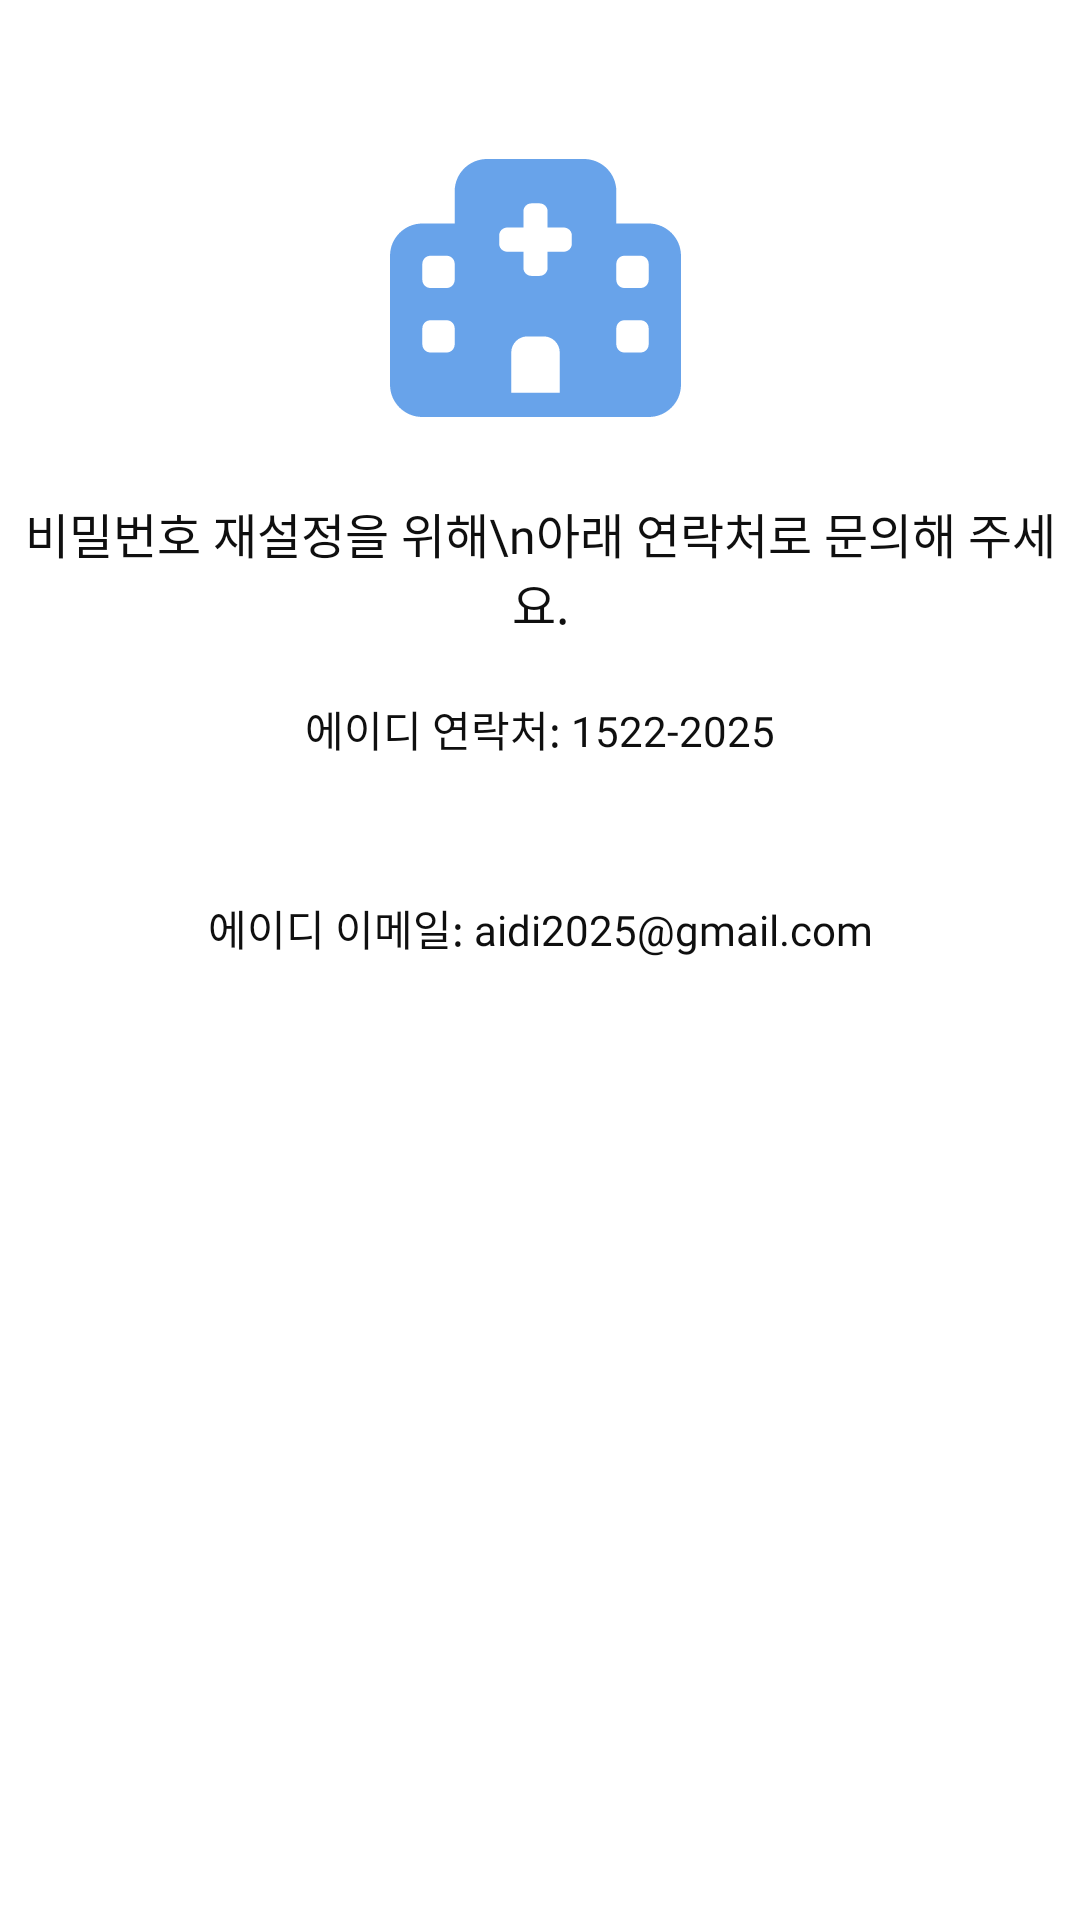

Named icons in this screenshot (1080w x 1920h) and their bounding boxes, (x1, y1, x2, y2):
hospital sv: (390, 159, 681, 417)
